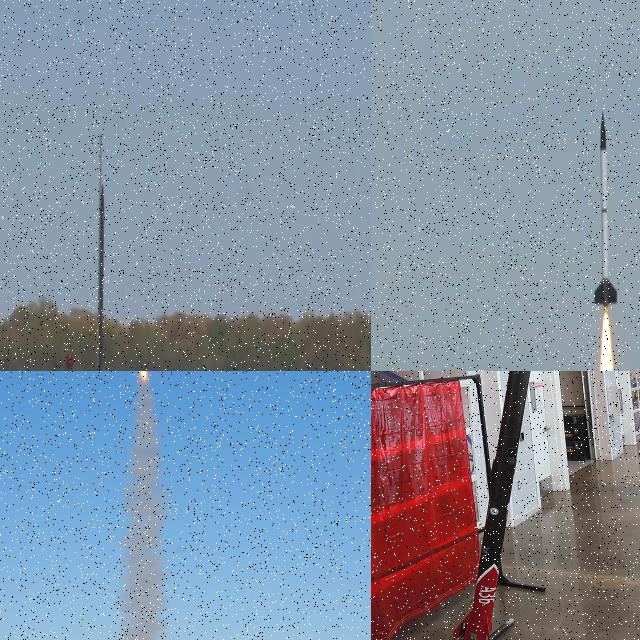Rocket: (453, 371, 531, 640), (594, 110, 618, 310), (98, 184, 105, 371)
